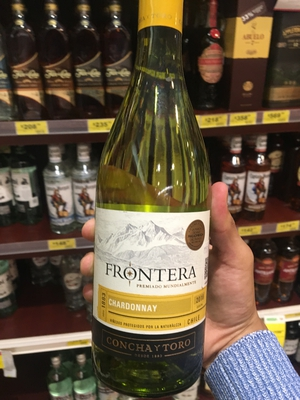frontera chardonnay: (88, 3, 214, 375)
